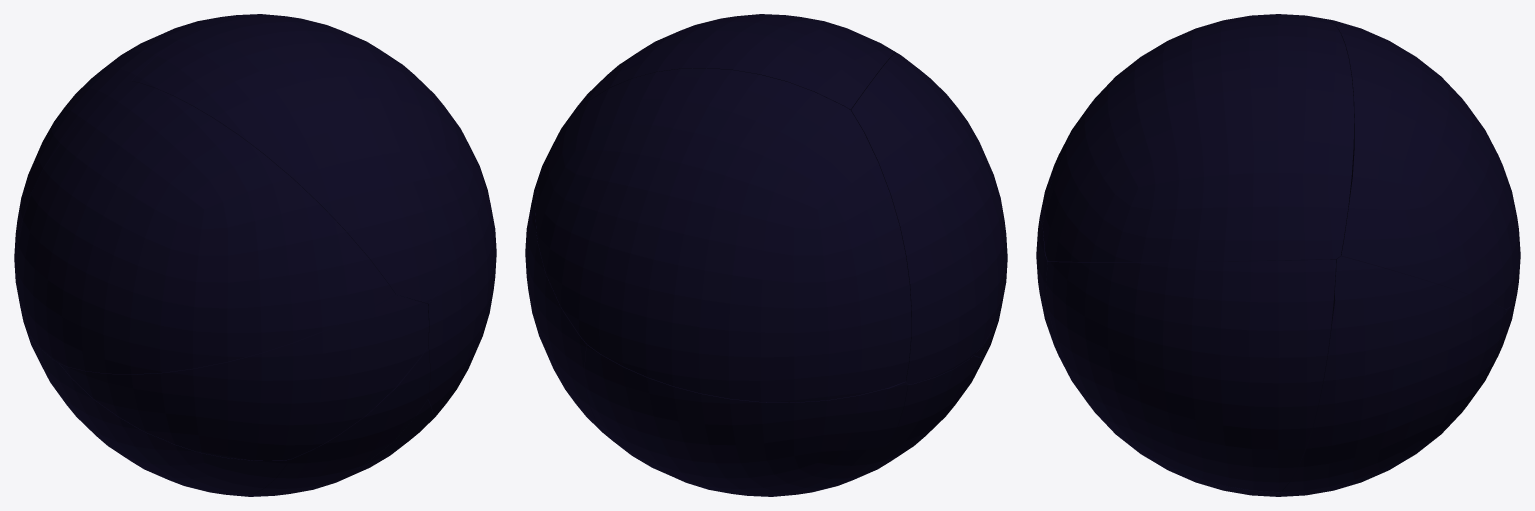
File: bomb.glb
3 renders of one model, left to right at view 1: azimuth 30°, elevation 25°; view 2: azimuth 150°, elevation 25°; view 3: azimuth 270°, elevation 25°, orthographic.
Parts seen in each view (by area): view 1: bomb3, bomb5, bomb0, bomb7, bomb8, bomb6, bomb4, bomb2; view 2: bomb4, bomb3, bomb19, bomb5, bomb1, bomb7; view 3: bomb5, bomb8, bomb4, bomb1, bomb2, bomb19, bomb0, bomb3.
Boxes of the visible parts, box(x1,y1,x2,y2) form: bomb3: box(16, 81, 395, 374); bomb5: box(132, 15, 481, 302); bomb0: box(59, 294, 428, 460); bomb7: box(24, 323, 289, 496); bomb8: box(395, 161, 496, 419); bomb6: box(242, 346, 430, 496); bomb4: box(14, 14, 287, 302); bomb2: box(266, 399, 433, 496); bomb4: box(535, 68, 911, 402); bomb3: box(851, 52, 1007, 384); bomb19: box(584, 344, 907, 496); bomb5: box(558, 14, 896, 134); bomb1: box(525, 160, 613, 441); bomb7: box(846, 355, 983, 482); bomb5: box(1042, 14, 1354, 261); bomb8: box(1046, 259, 1335, 491); bomb4: box(1328, 19, 1520, 309); bomb1: box(1281, 256, 1506, 495); bomb2: box(1071, 375, 1298, 496); bomb19: box(1368, 298, 1516, 479); bomb0: box(1036, 215, 1056, 319); bomb3: box(1040, 49, 1153, 224).
Size of the model in its own units: 0.9814 by 0.9814 by 0.9814.
